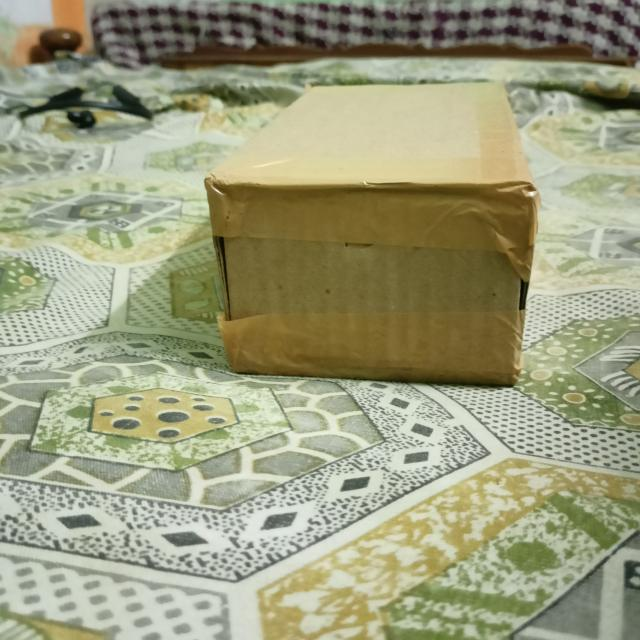box: (207, 180, 527, 381)
